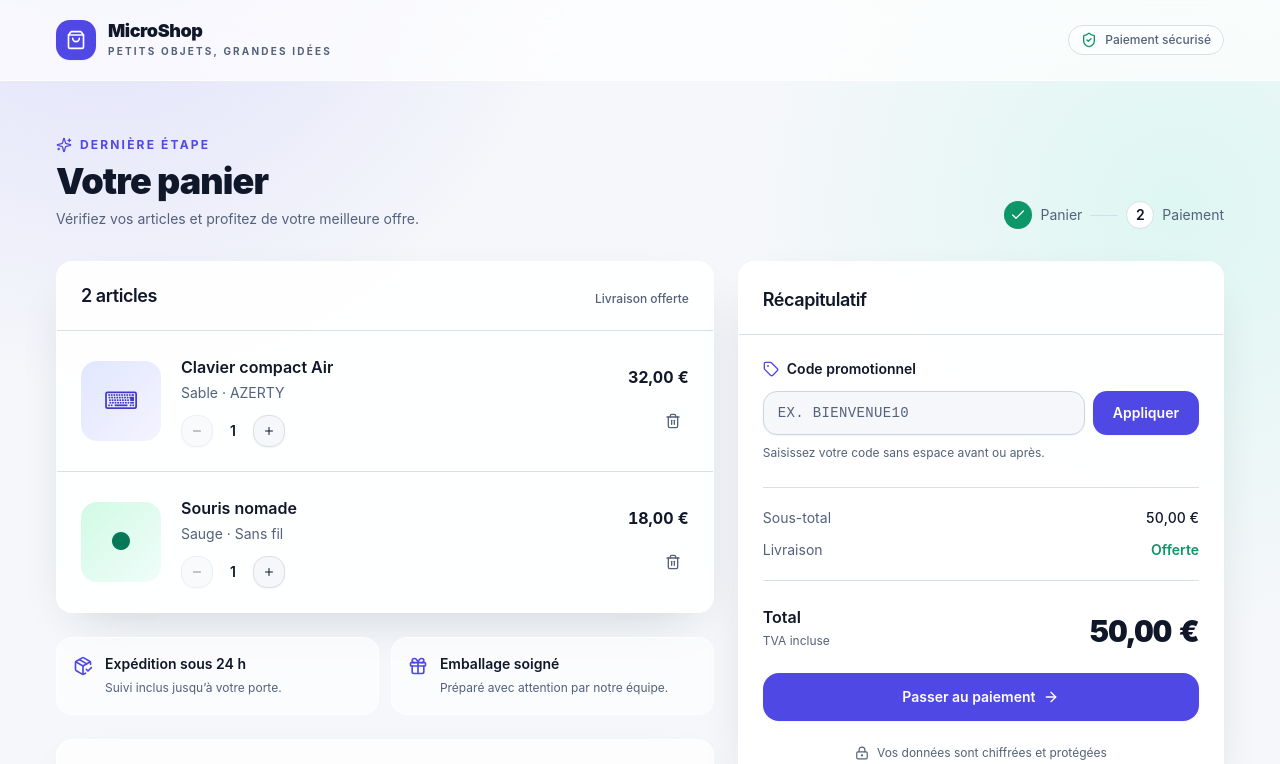
Test: gestion des codes promotionnels au panier › refuse un code vide sans appeler l'API
Click the button "Appliquer".
click(1146, 413)  # box [1093,391,1199,435]
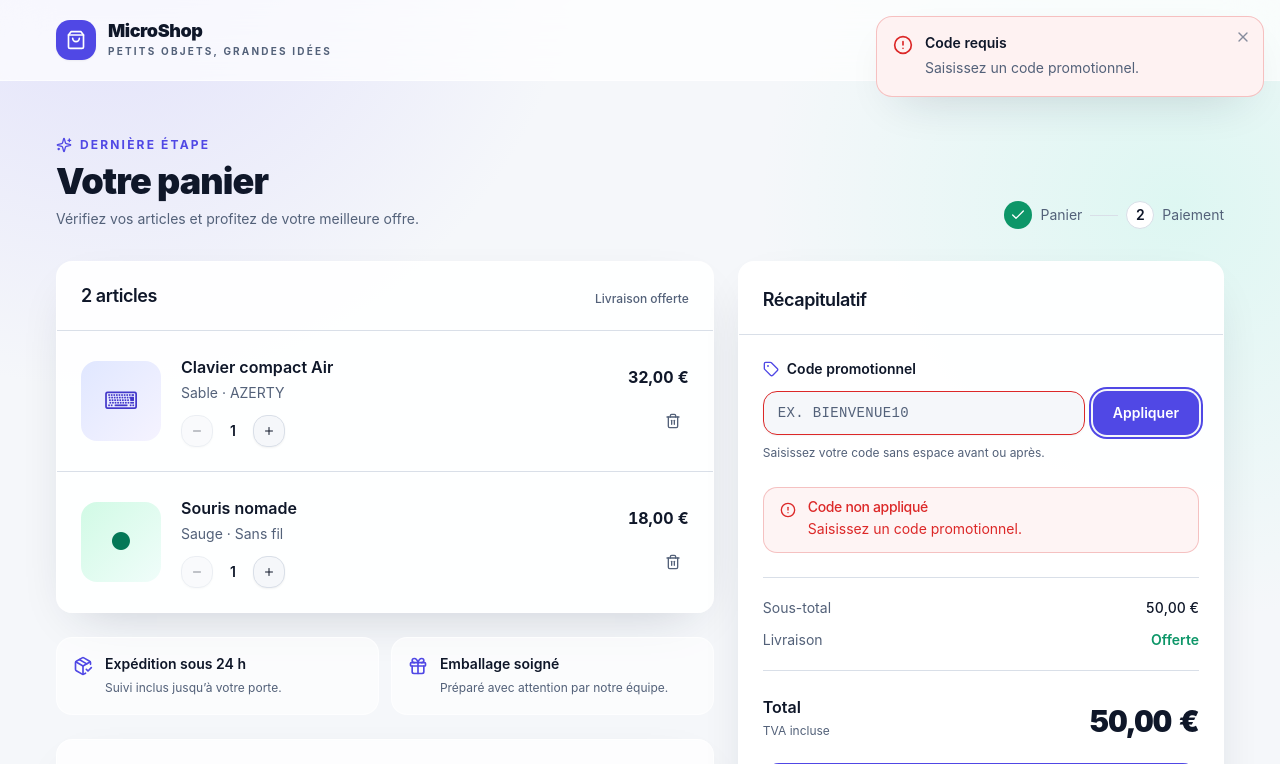
Now the text "Code non appliqué" shows "Saisissez un code promotionnel.", box [808,520,1022,536]
